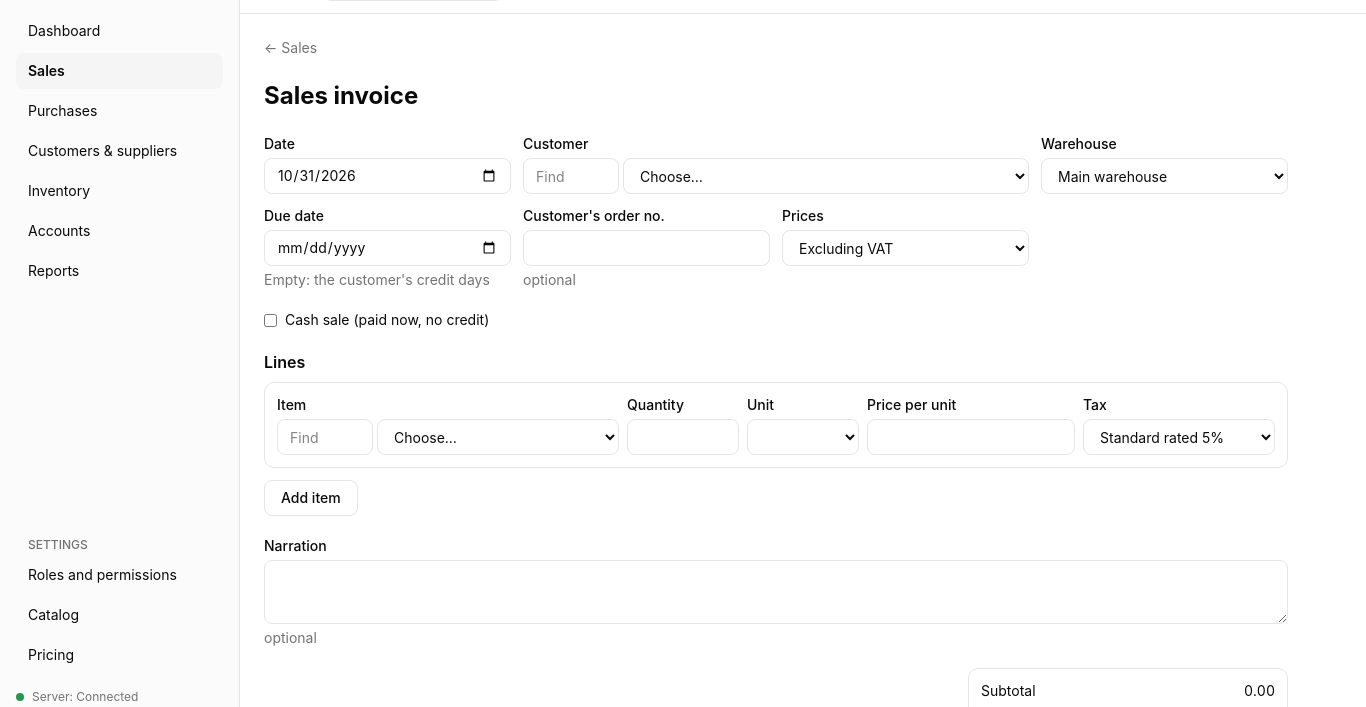
Sales screens › adds an item from the customer's history at its last price
Select "C0001 Ali Traders" in the dropdown labelled "Customer" at (826, 176), box [623,158,1029,194]
(page scrolled)
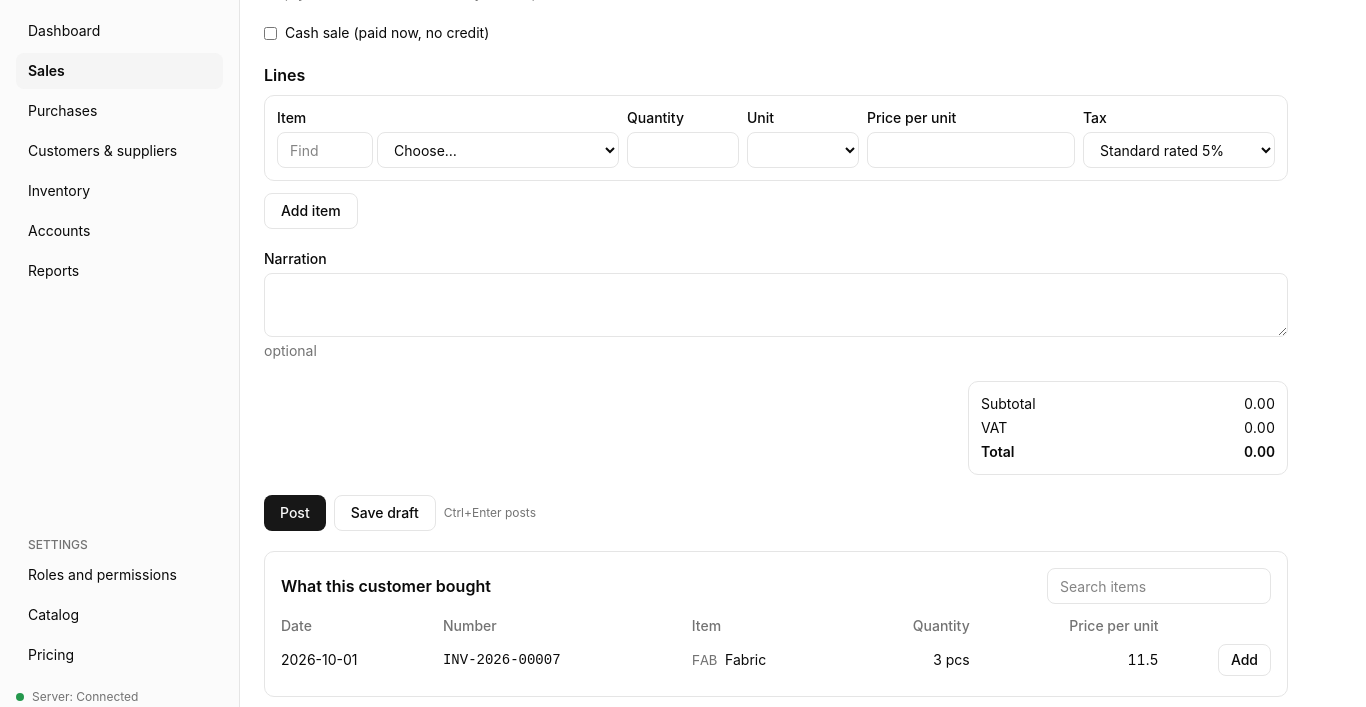
Click the button with aria-label "Add FAB" at (1244, 660), box [1218,644,1271,676]
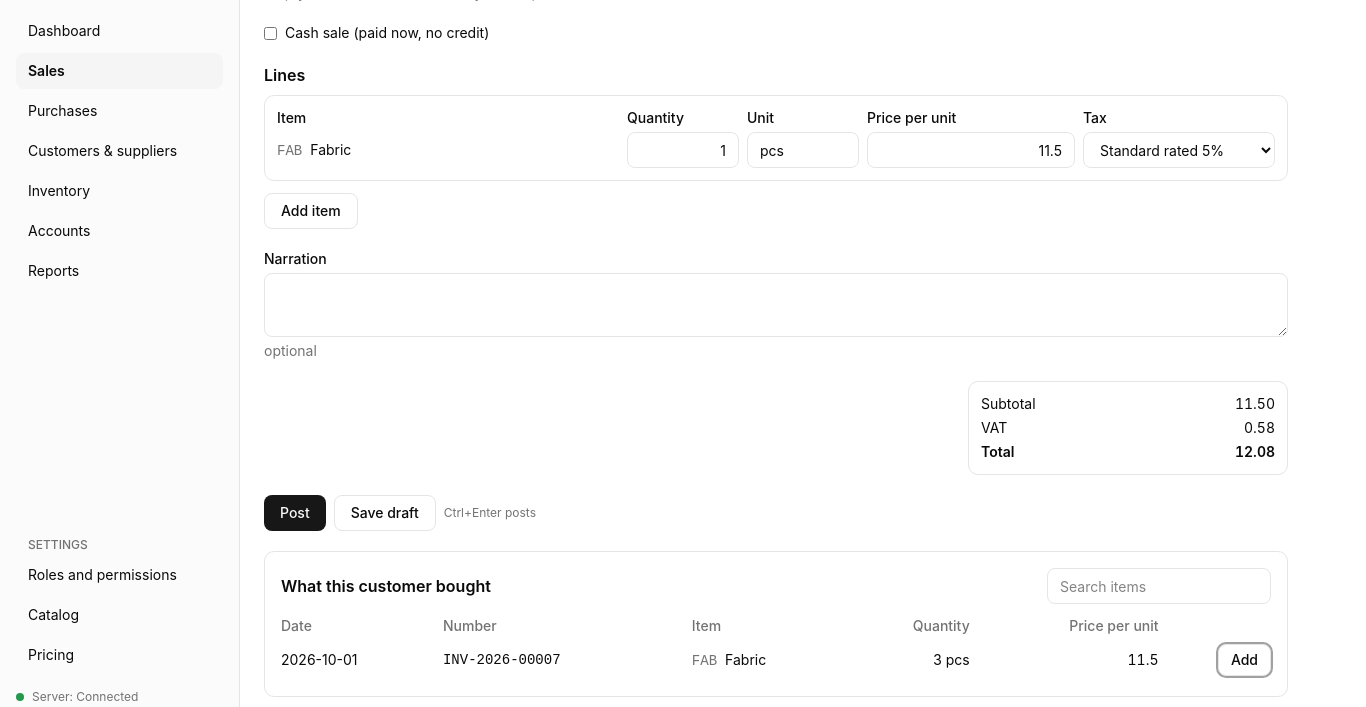
Expected: the field labelled "Price per unit" holds "11.5", [867,132,1075,168]
Click the button "Post" at (295, 513), box [264,495,326,531]
(page scrolled)
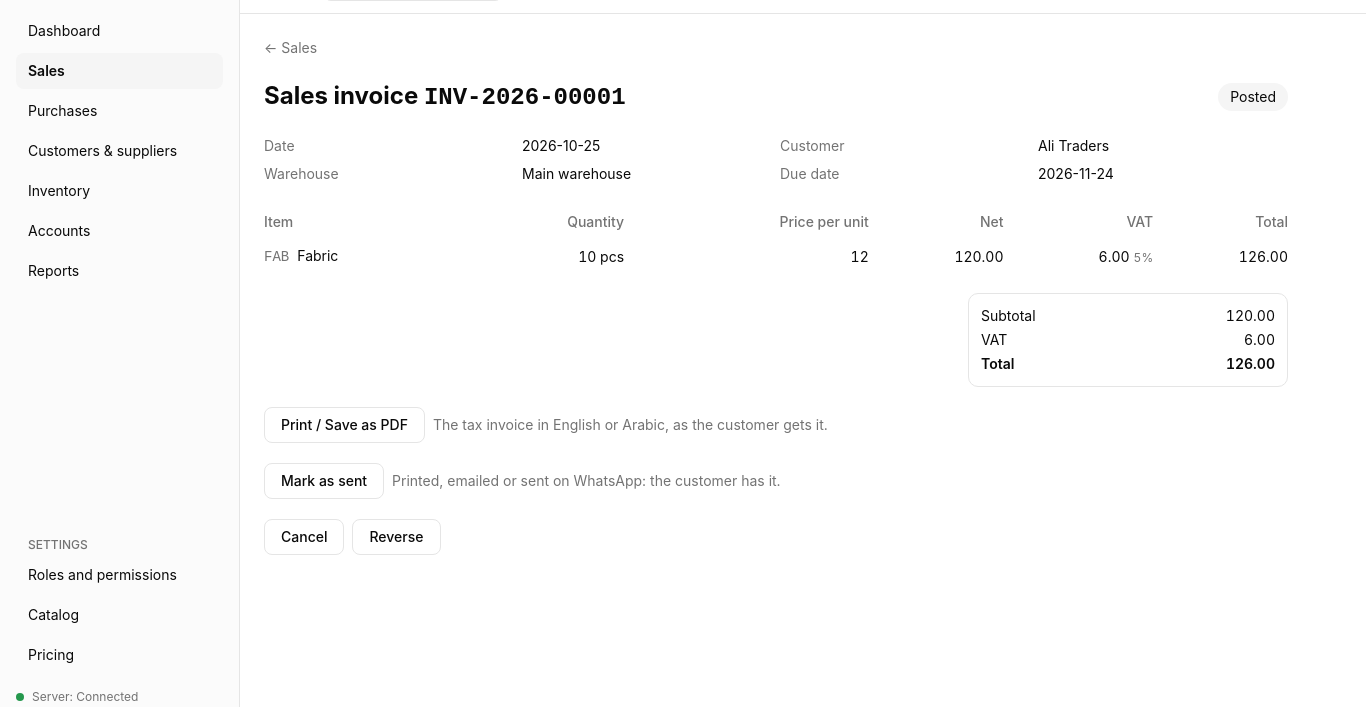
Expected: the heading "Sales invoice INV-2026-00001" is shown, [264,78,626,116]
